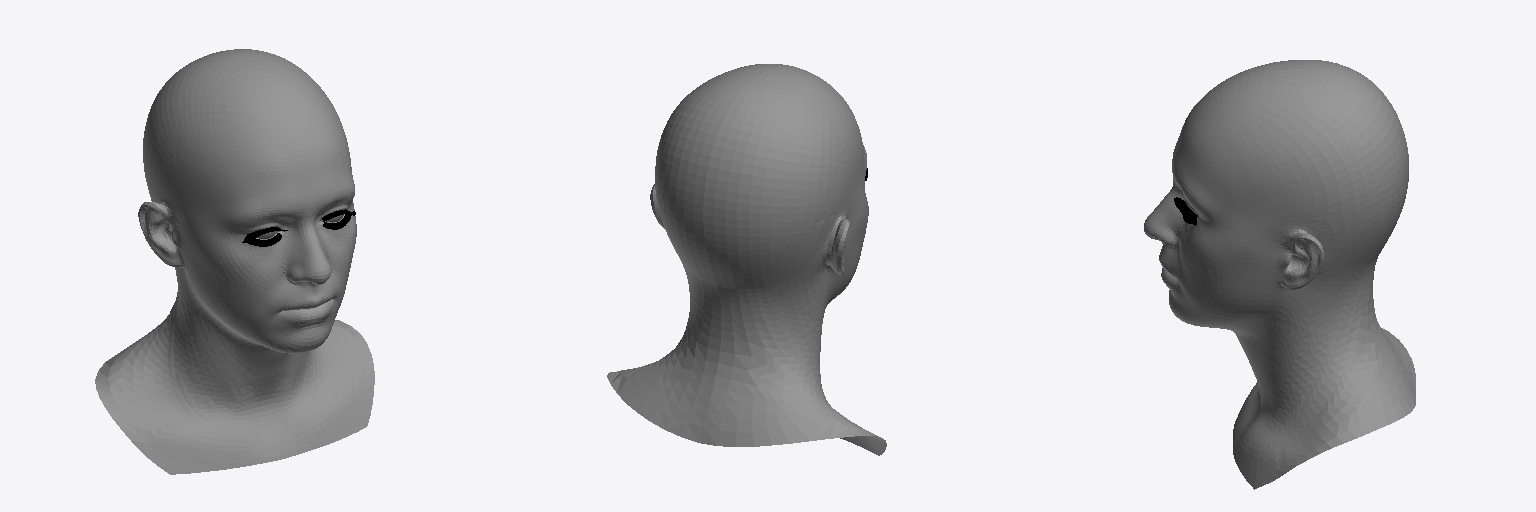
The model's file is identity059.obj.
3 renders of one model, left to right at view 1: azimuth 30°, elevation 25°; view 2: azimuth 150°, elevation 25°; view 3: azimuth 270°, elevation 25°, orthographic.
Size of the model in its own units: 24.81 by 33.79 by 22.35.